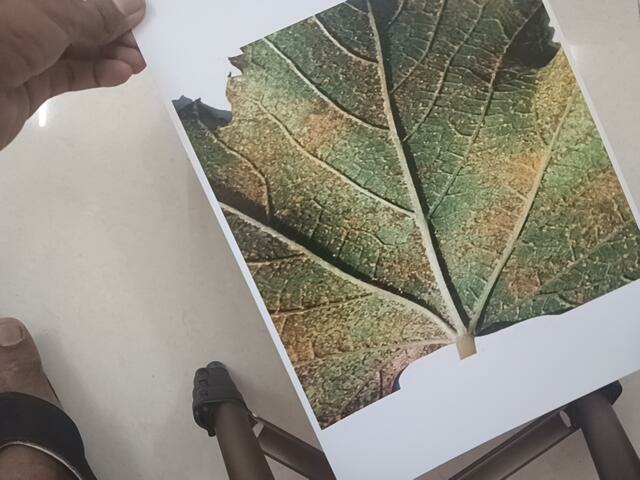Grape_Rust_Fungus: (171, 1, 637, 346)
